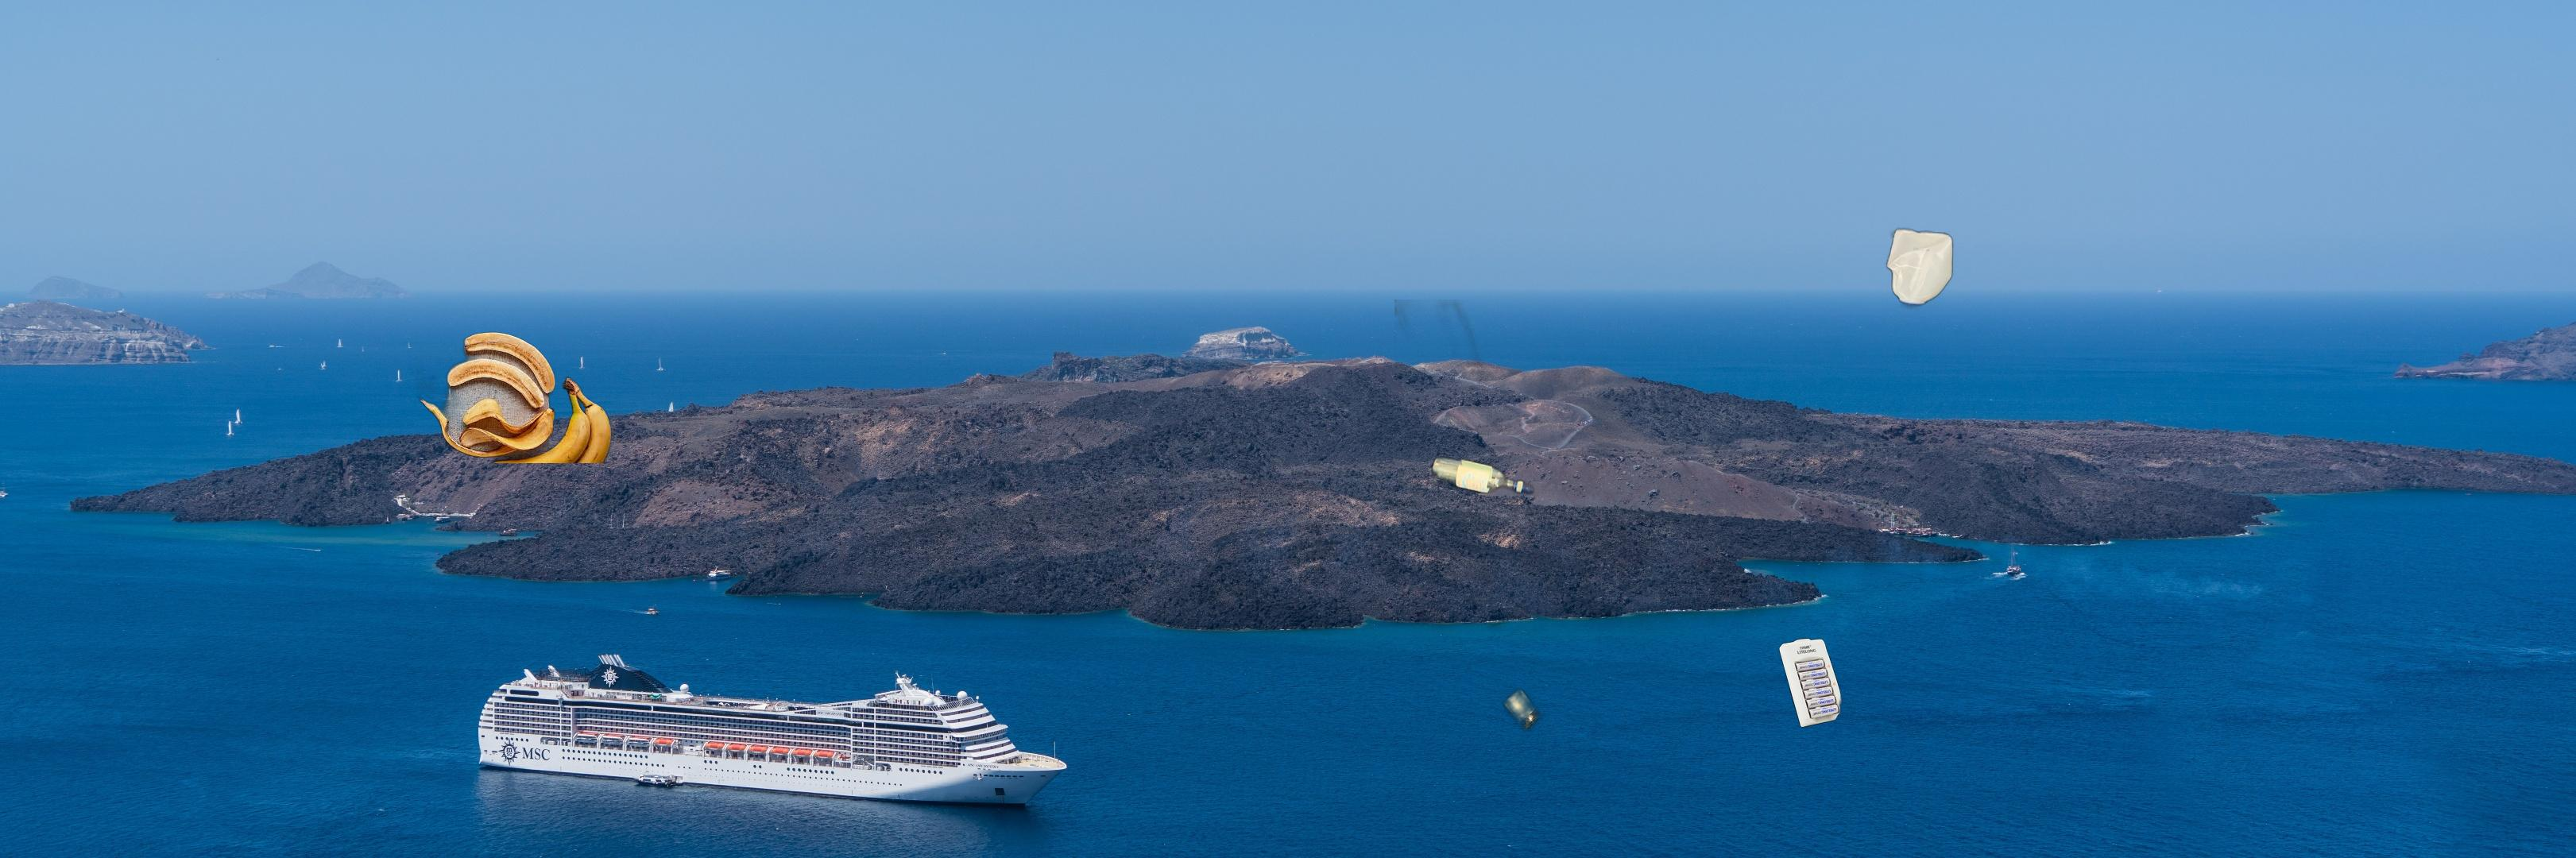battery: (1776, 636, 1894, 728)
biological: (409, 319, 613, 464)
glass: (1395, 299, 1801, 842), (1429, 286, 1699, 500)
plastic-bottles: (1820, 108, 2211, 562)
